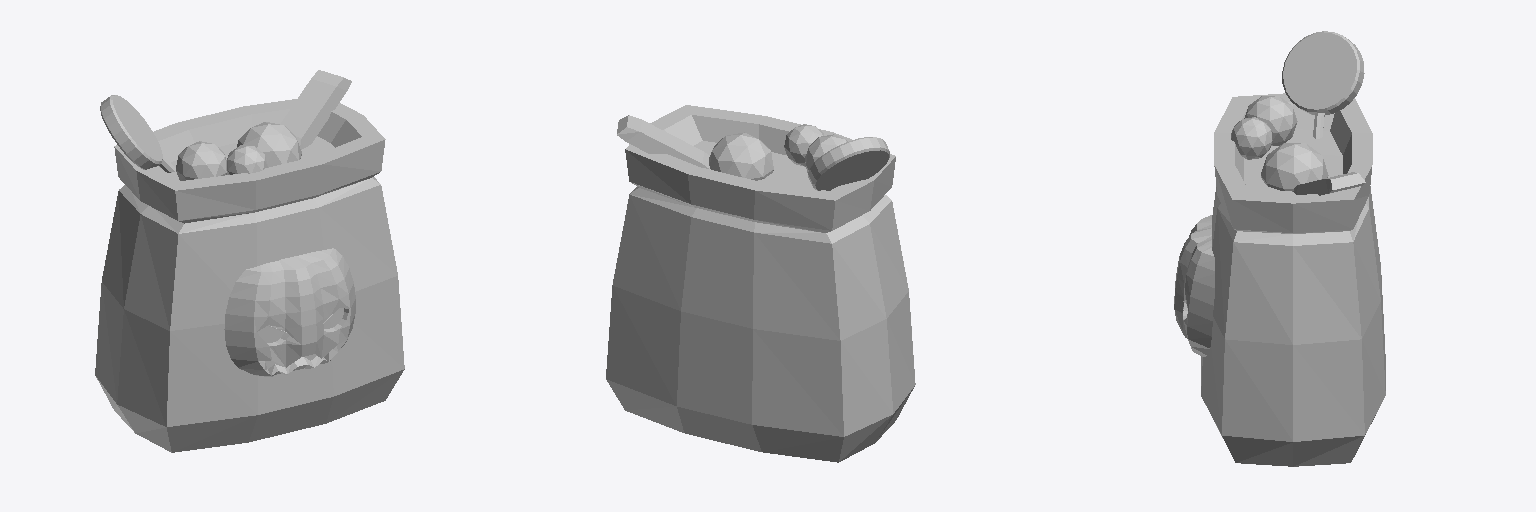
Rendered from candyBag.obj.
The picture shows the model from 3 angles: view 1: azimuth 30°, elevation 25°; view 2: azimuth 150°, elevation 25°; view 3: azimuth 270°, elevation 25°; orthographic projection.
Parts seen in each view (by area): view 1: candyBag_Cube.003; view 2: candyBag_Cube.003; view 3: candyBag_Cube.003.
Part boxes in pixels (x1,y1,x2,y2): candyBag_Cube.003: (95, 70, 404, 452); candyBag_Cube.003: (606, 105, 915, 462); candyBag_Cube.003: (1174, 31, 1385, 466).
Size of the model in its own units: 1.15 by 1.37 by 0.7911.